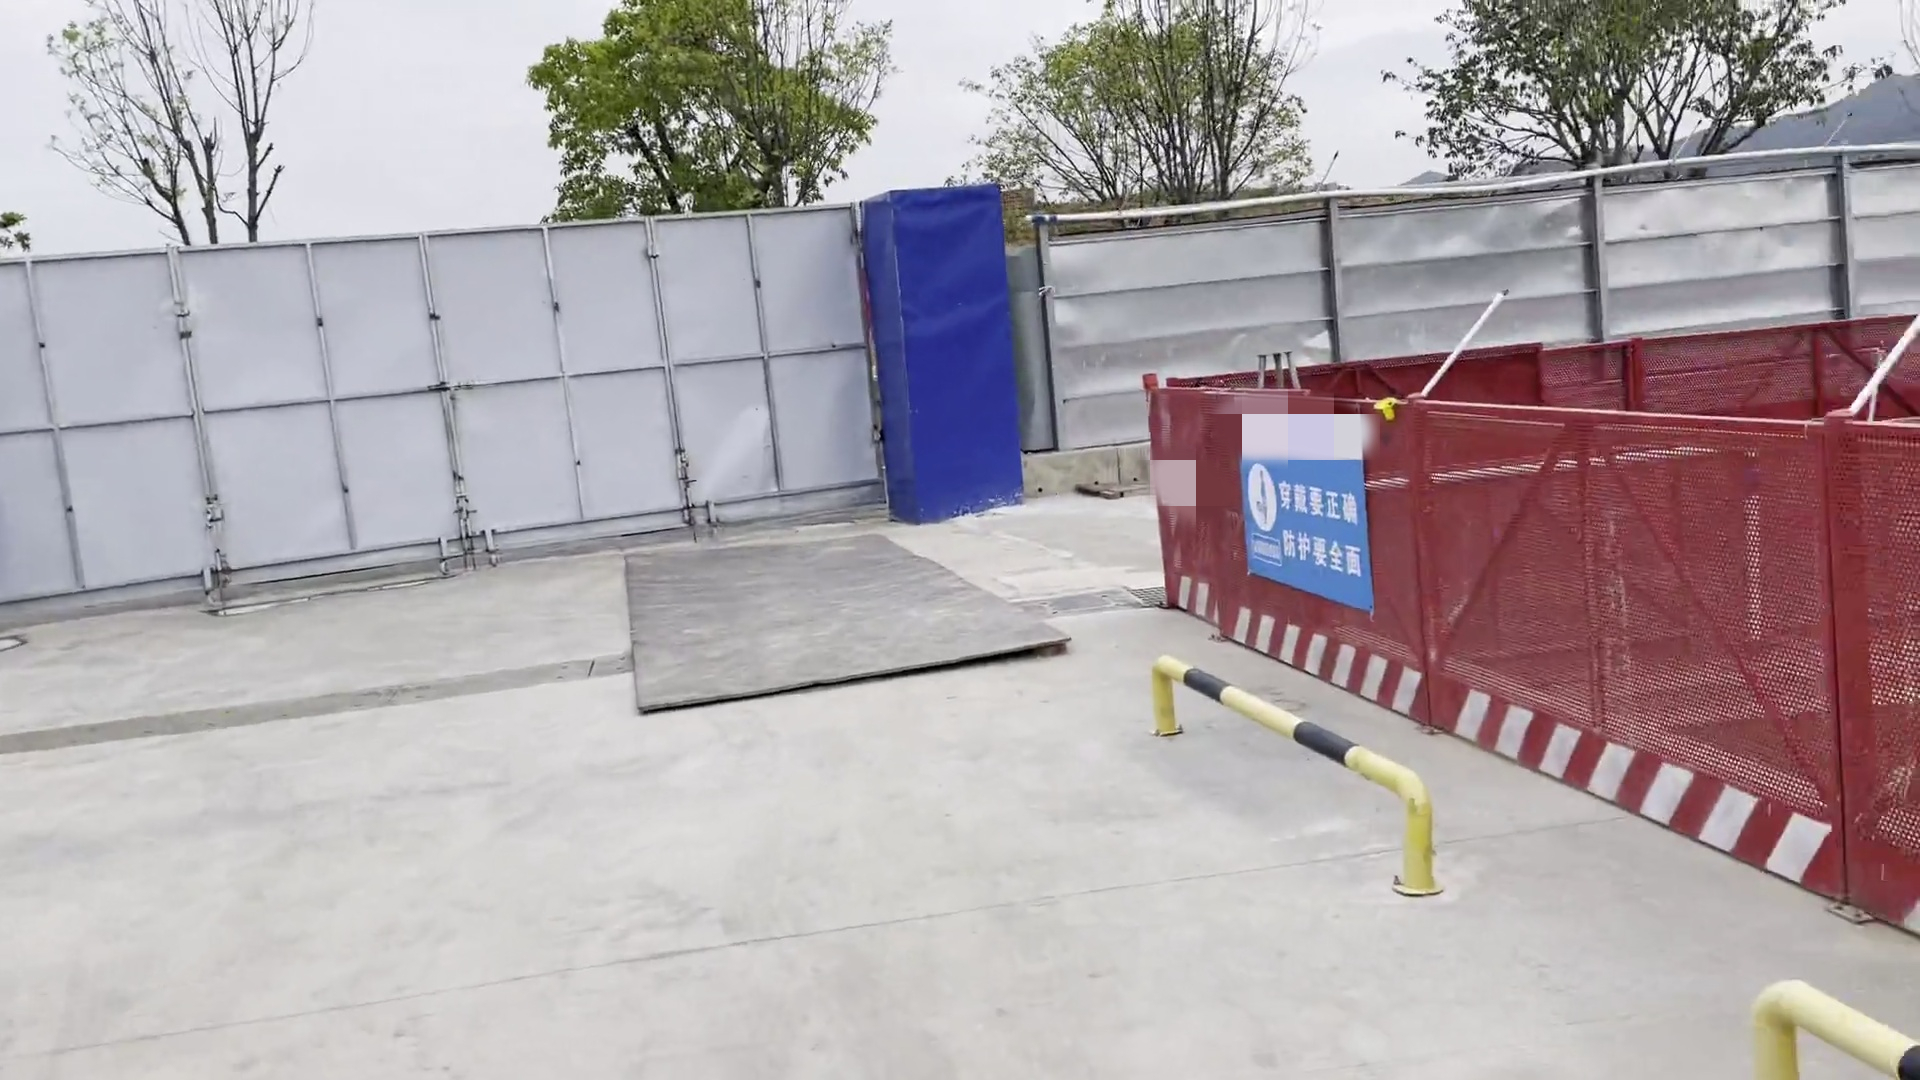fence: (1134, 377, 1920, 942), (1290, 311, 1920, 450)
slogan: (1215, 401, 1385, 626)
